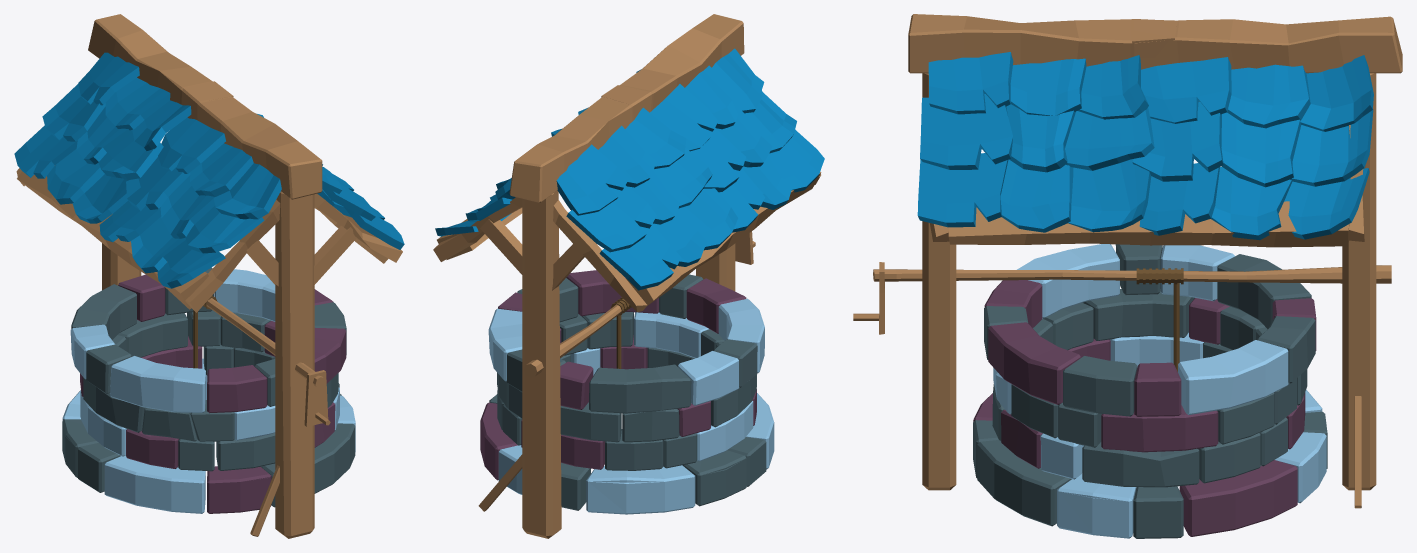
The model's file is Well.fbx.
The picture shows the model from 3 angles, left to right: view 1: azimuth 30°, elevation 25°; view 2: azimuth 150°, elevation 25°; view 3: azimuth 270°, elevation 25°; orthographic projection. The views are drawn at different scales.
Parts seen in each view (by area): view 1: Cube.013, Plane.007, Cube.006; view 2: Cube.013, Plane.007, Cube.006; view 3: Cube.013, Plane.007, Cube.006.
Part boxes in pixels (left/top/right/bottom): Cube.013: left=62, top=267, right=355, bottom=513; Plane.007: left=14, top=52, right=404, bottom=288; Cube.006: left=16, top=14, right=402, bottom=538; Cube.013: left=480, top=270, right=774, bottom=514; Plane.007: left=435, top=48, right=824, bottom=290; Cube.006: left=433, top=14, right=821, bottom=538; Cube.013: left=973, top=244, right=1327, bottom=538; Plane.007: left=917, top=52, right=1373, bottom=240; Cube.006: left=853, top=14, right=1402, bottom=508.
Size of the model in its own units: 1584 by 2279 by 2454.
